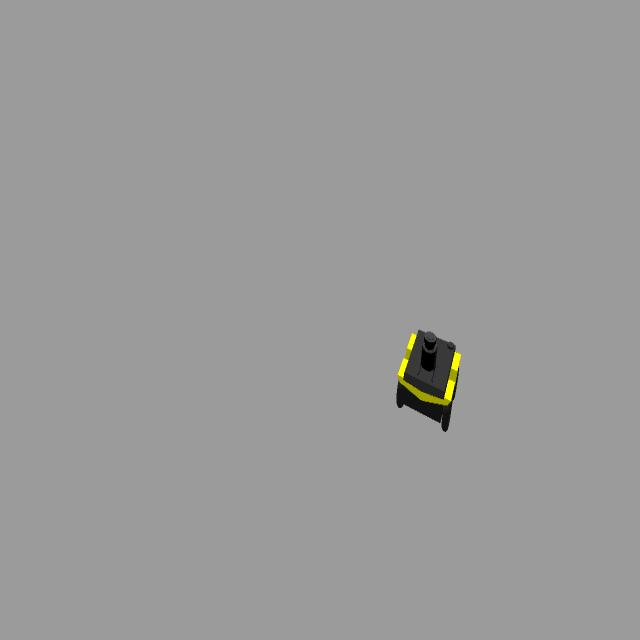jackal: (396, 328, 461, 431)
